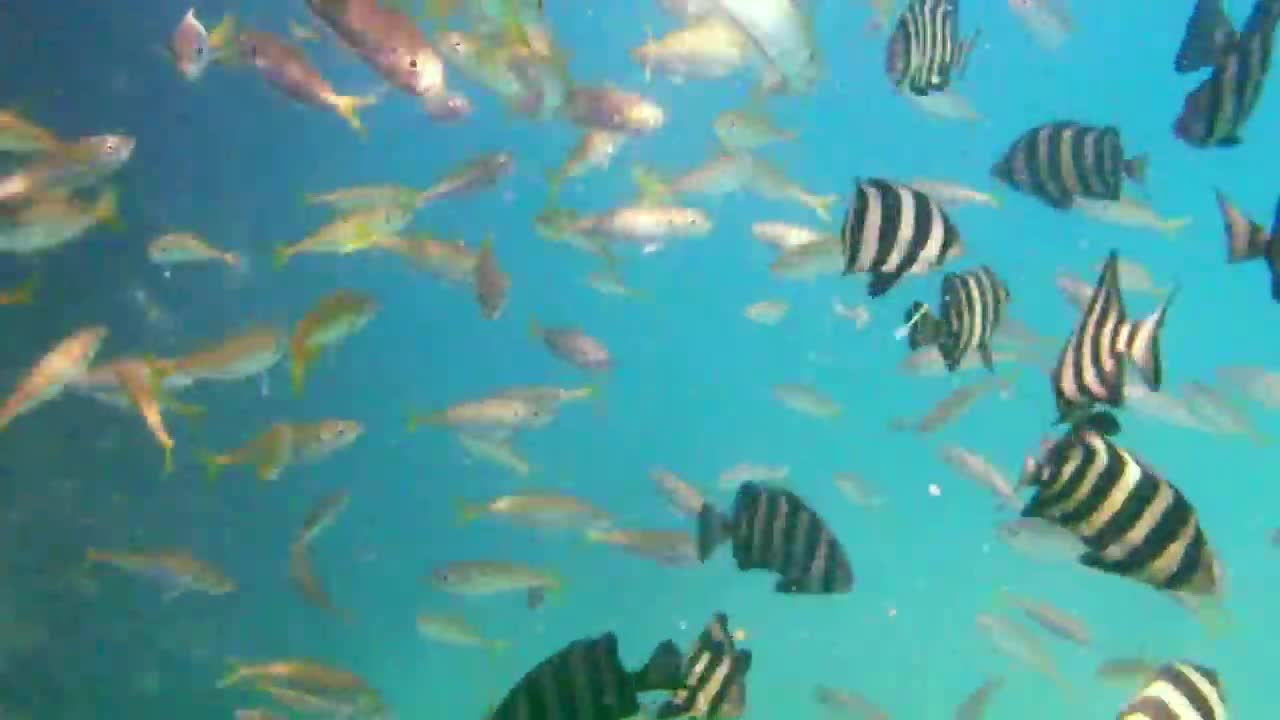ishidai: (1017, 415, 1256, 628)
